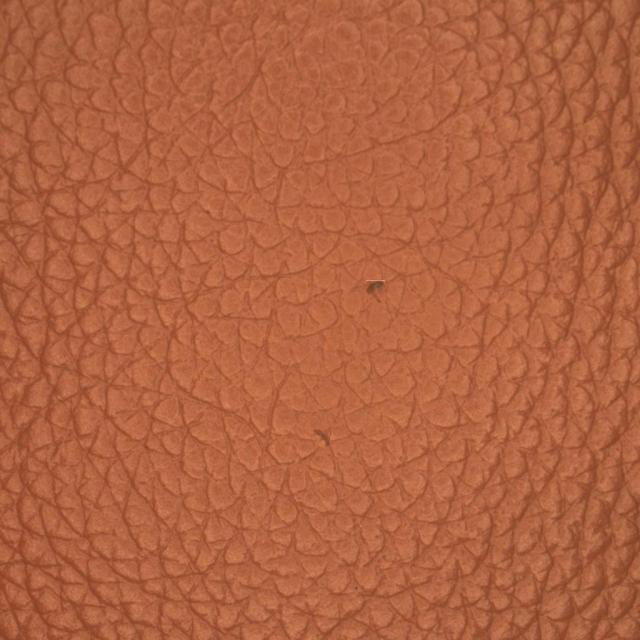pinhole: (325, 190, 423, 381)
